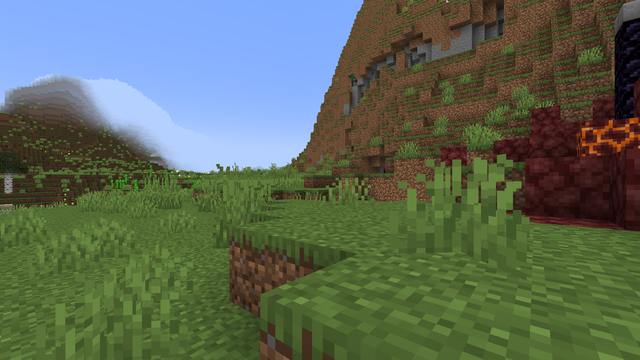zombies: (349, 73, 354, 86)
